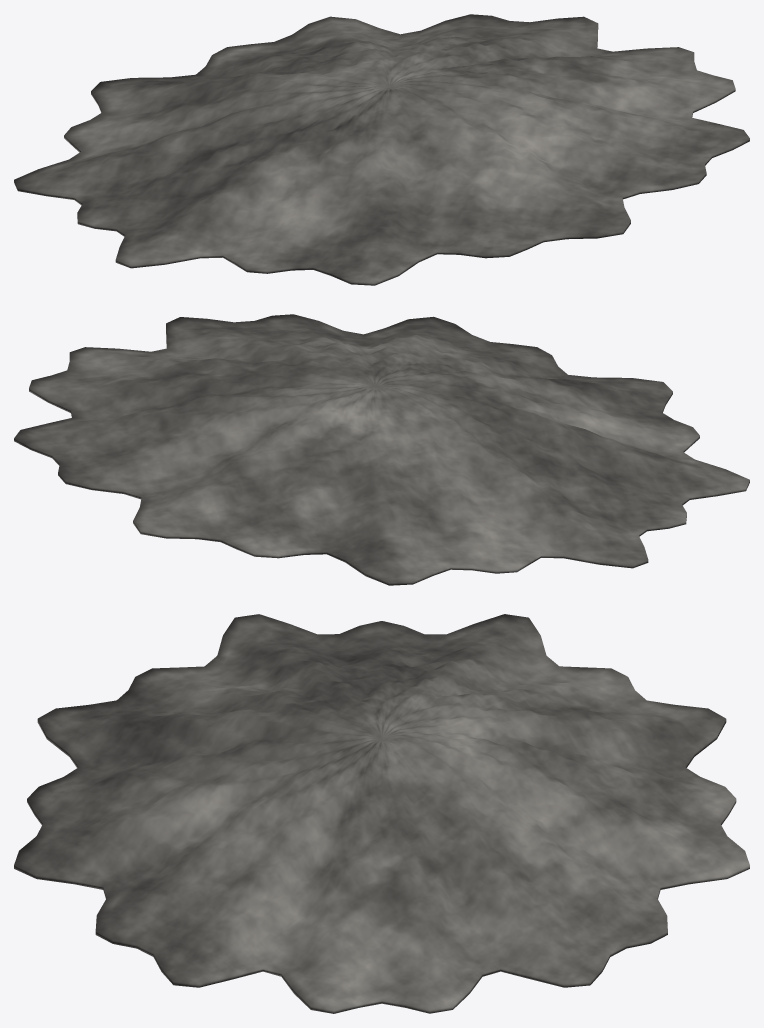
The model's file is PROJECT_Z_VR26_09_Ash_Deposit_Rounded.glb.
3 views of the same model, one above another, from view 1: azimuth 30°, elevation 25°; view 2: azimuth 150°, elevation 25°; view 3: azimuth 270°, elevation 25° (orthographic). The views are drawn at different scales.
Parts seen in each view (by area): view 1: 09_Ash_Deposit_Rounded__RENDER_Ash_Mound_3m; view 2: 09_Ash_Deposit_Rounded__RENDER_Ash_Mound_3m; view 3: 09_Ash_Deposit_Rounded__RENDER_Ash_Mound_3m.
Boxes of the visible parts, x1,y1,x2,y2 form: 09_Ash_Deposit_Rounded__RENDER_Ash_Mound_3m: (14, 14, 749, 285); 09_Ash_Deposit_Rounded__RENDER_Ash_Mound_3m: (14, 314, 749, 585); 09_Ash_Deposit_Rounded__RENDER_Ash_Mound_3m: (14, 614, 749, 1013).
Size of the model in its own units: 3.24 by 0.3066 by 2.54.
Materials: 1 (1 with a texture image).
